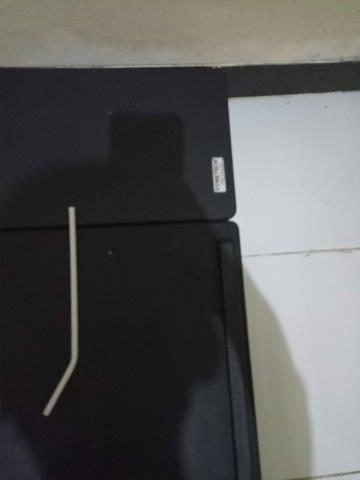sedotan: (43, 207, 78, 416)
